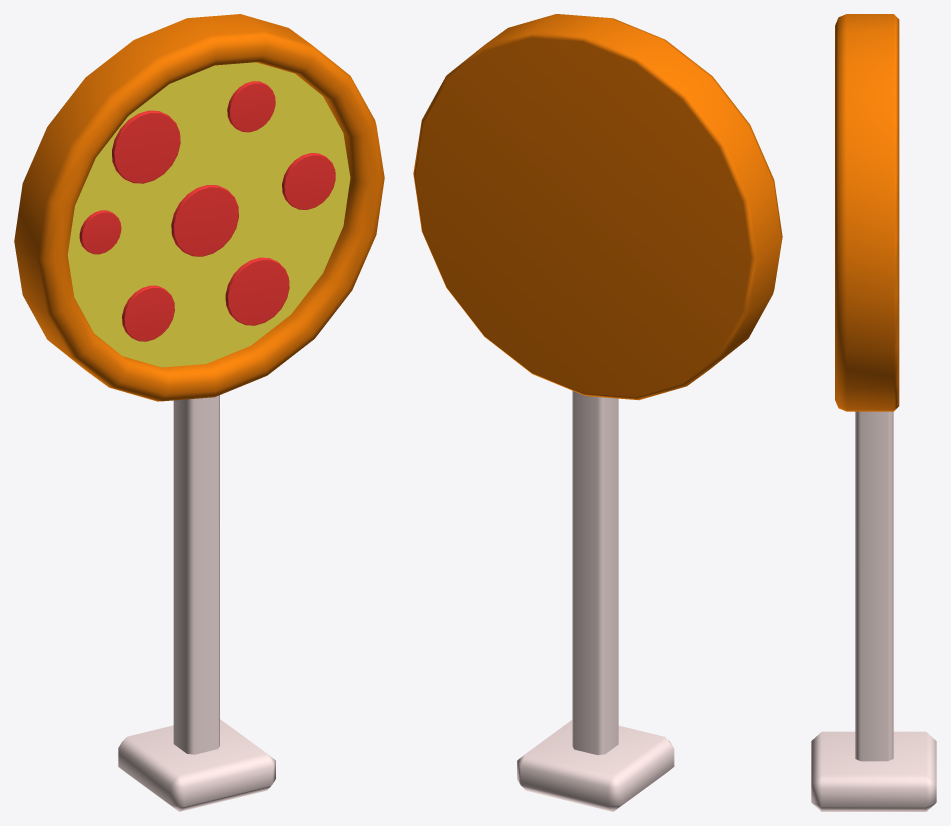
File: Store_1_Pizza_Sign_3.glb
The picture shows the model from 3 angles, left to right: view 1: azimuth 30°, elevation 25°; view 2: azimuth 150°, elevation 25°; view 3: azimuth 270°, elevation 25°; orthographic projection.
Visible parts, largest first — view 1: Store_1_Pizza_Sign_3; view 2: Store_1_Pizza_Sign_3; view 3: Store_1_Pizza_Sign_3.
Boxes of the visible parts, x1,y1,x2,y2 form: Store_1_Pizza_Sign_3: [14, 14, 384, 811]; Store_1_Pizza_Sign_3: [413, 14, 782, 811]; Store_1_Pizza_Sign_3: [811, 14, 936, 811].
Size of the model in its own units: 2.26 by 4.73 by 0.7073.
1 material, 1 textured.
